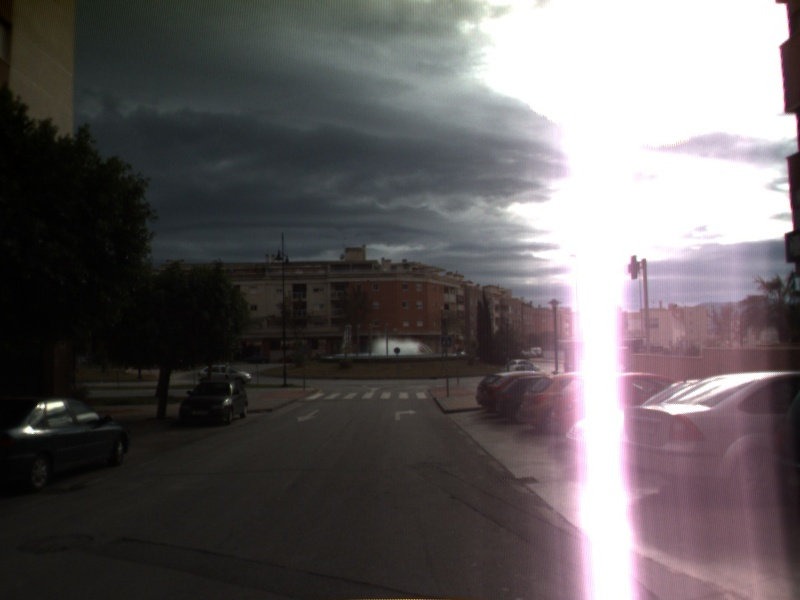RIGHT: (393, 407, 418, 422)
